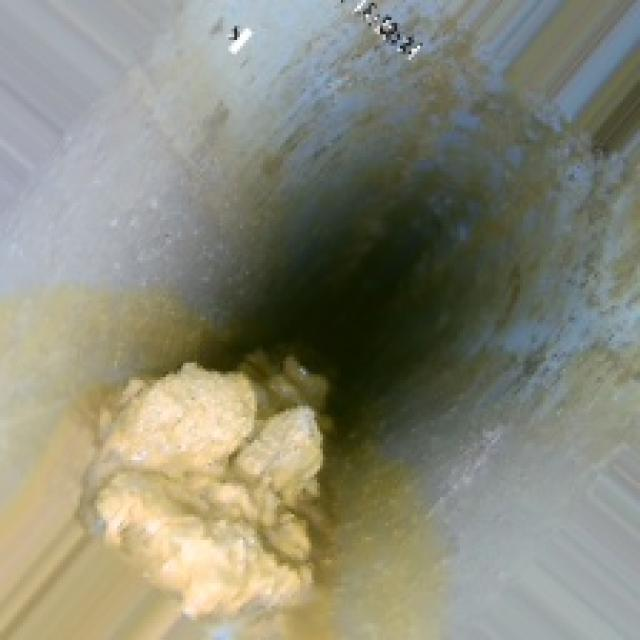sluge accumulation: (103, 354, 354, 632)
